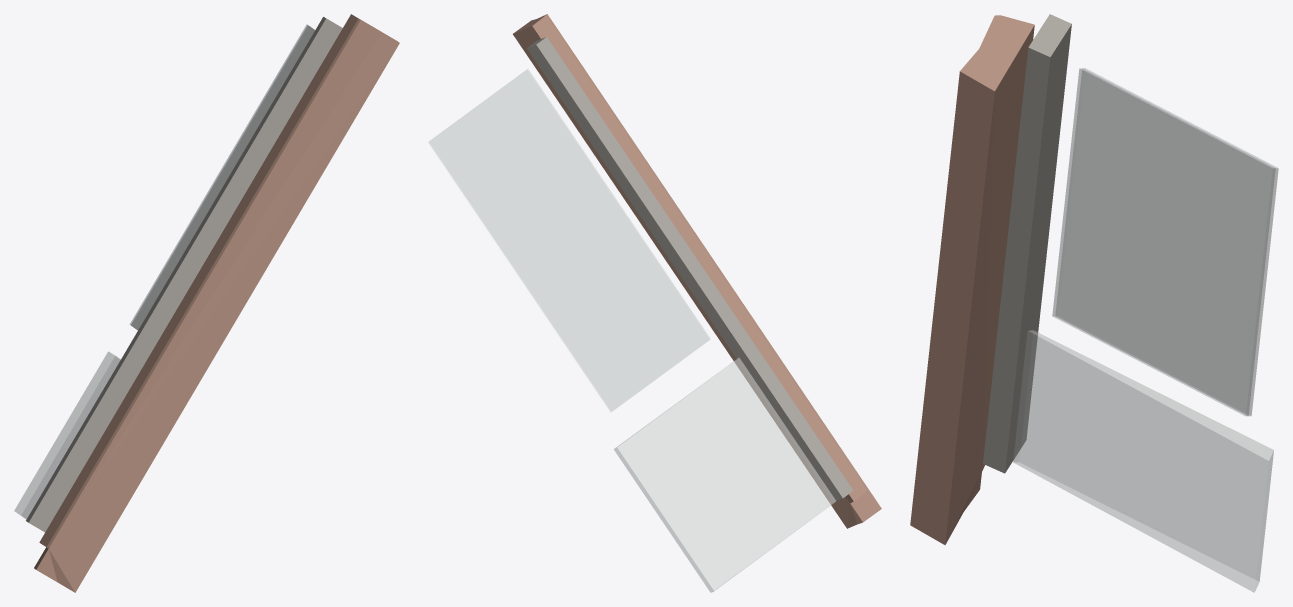
The picture shows the model from 3 angles, left to right: view 1: azimuth 30°, elevation 25°; view 2: azimuth 150°, elevation 25°; view 3: azimuth 270°, elevation 25°; orthographic projection. The views are drawn at different scales.
Parts seen in each view (by area): view 1: mesh; view 2: mesh; view 3: mesh.
Part boxes in pixels (x1,y1,x2,y2): mesh: (14, 14, 399, 592); mesh: (428, 14, 881, 592); mesh: (910, 14, 1278, 592).
Size of the model in its own units: 1.76 by 2.2 by 0.9487.
